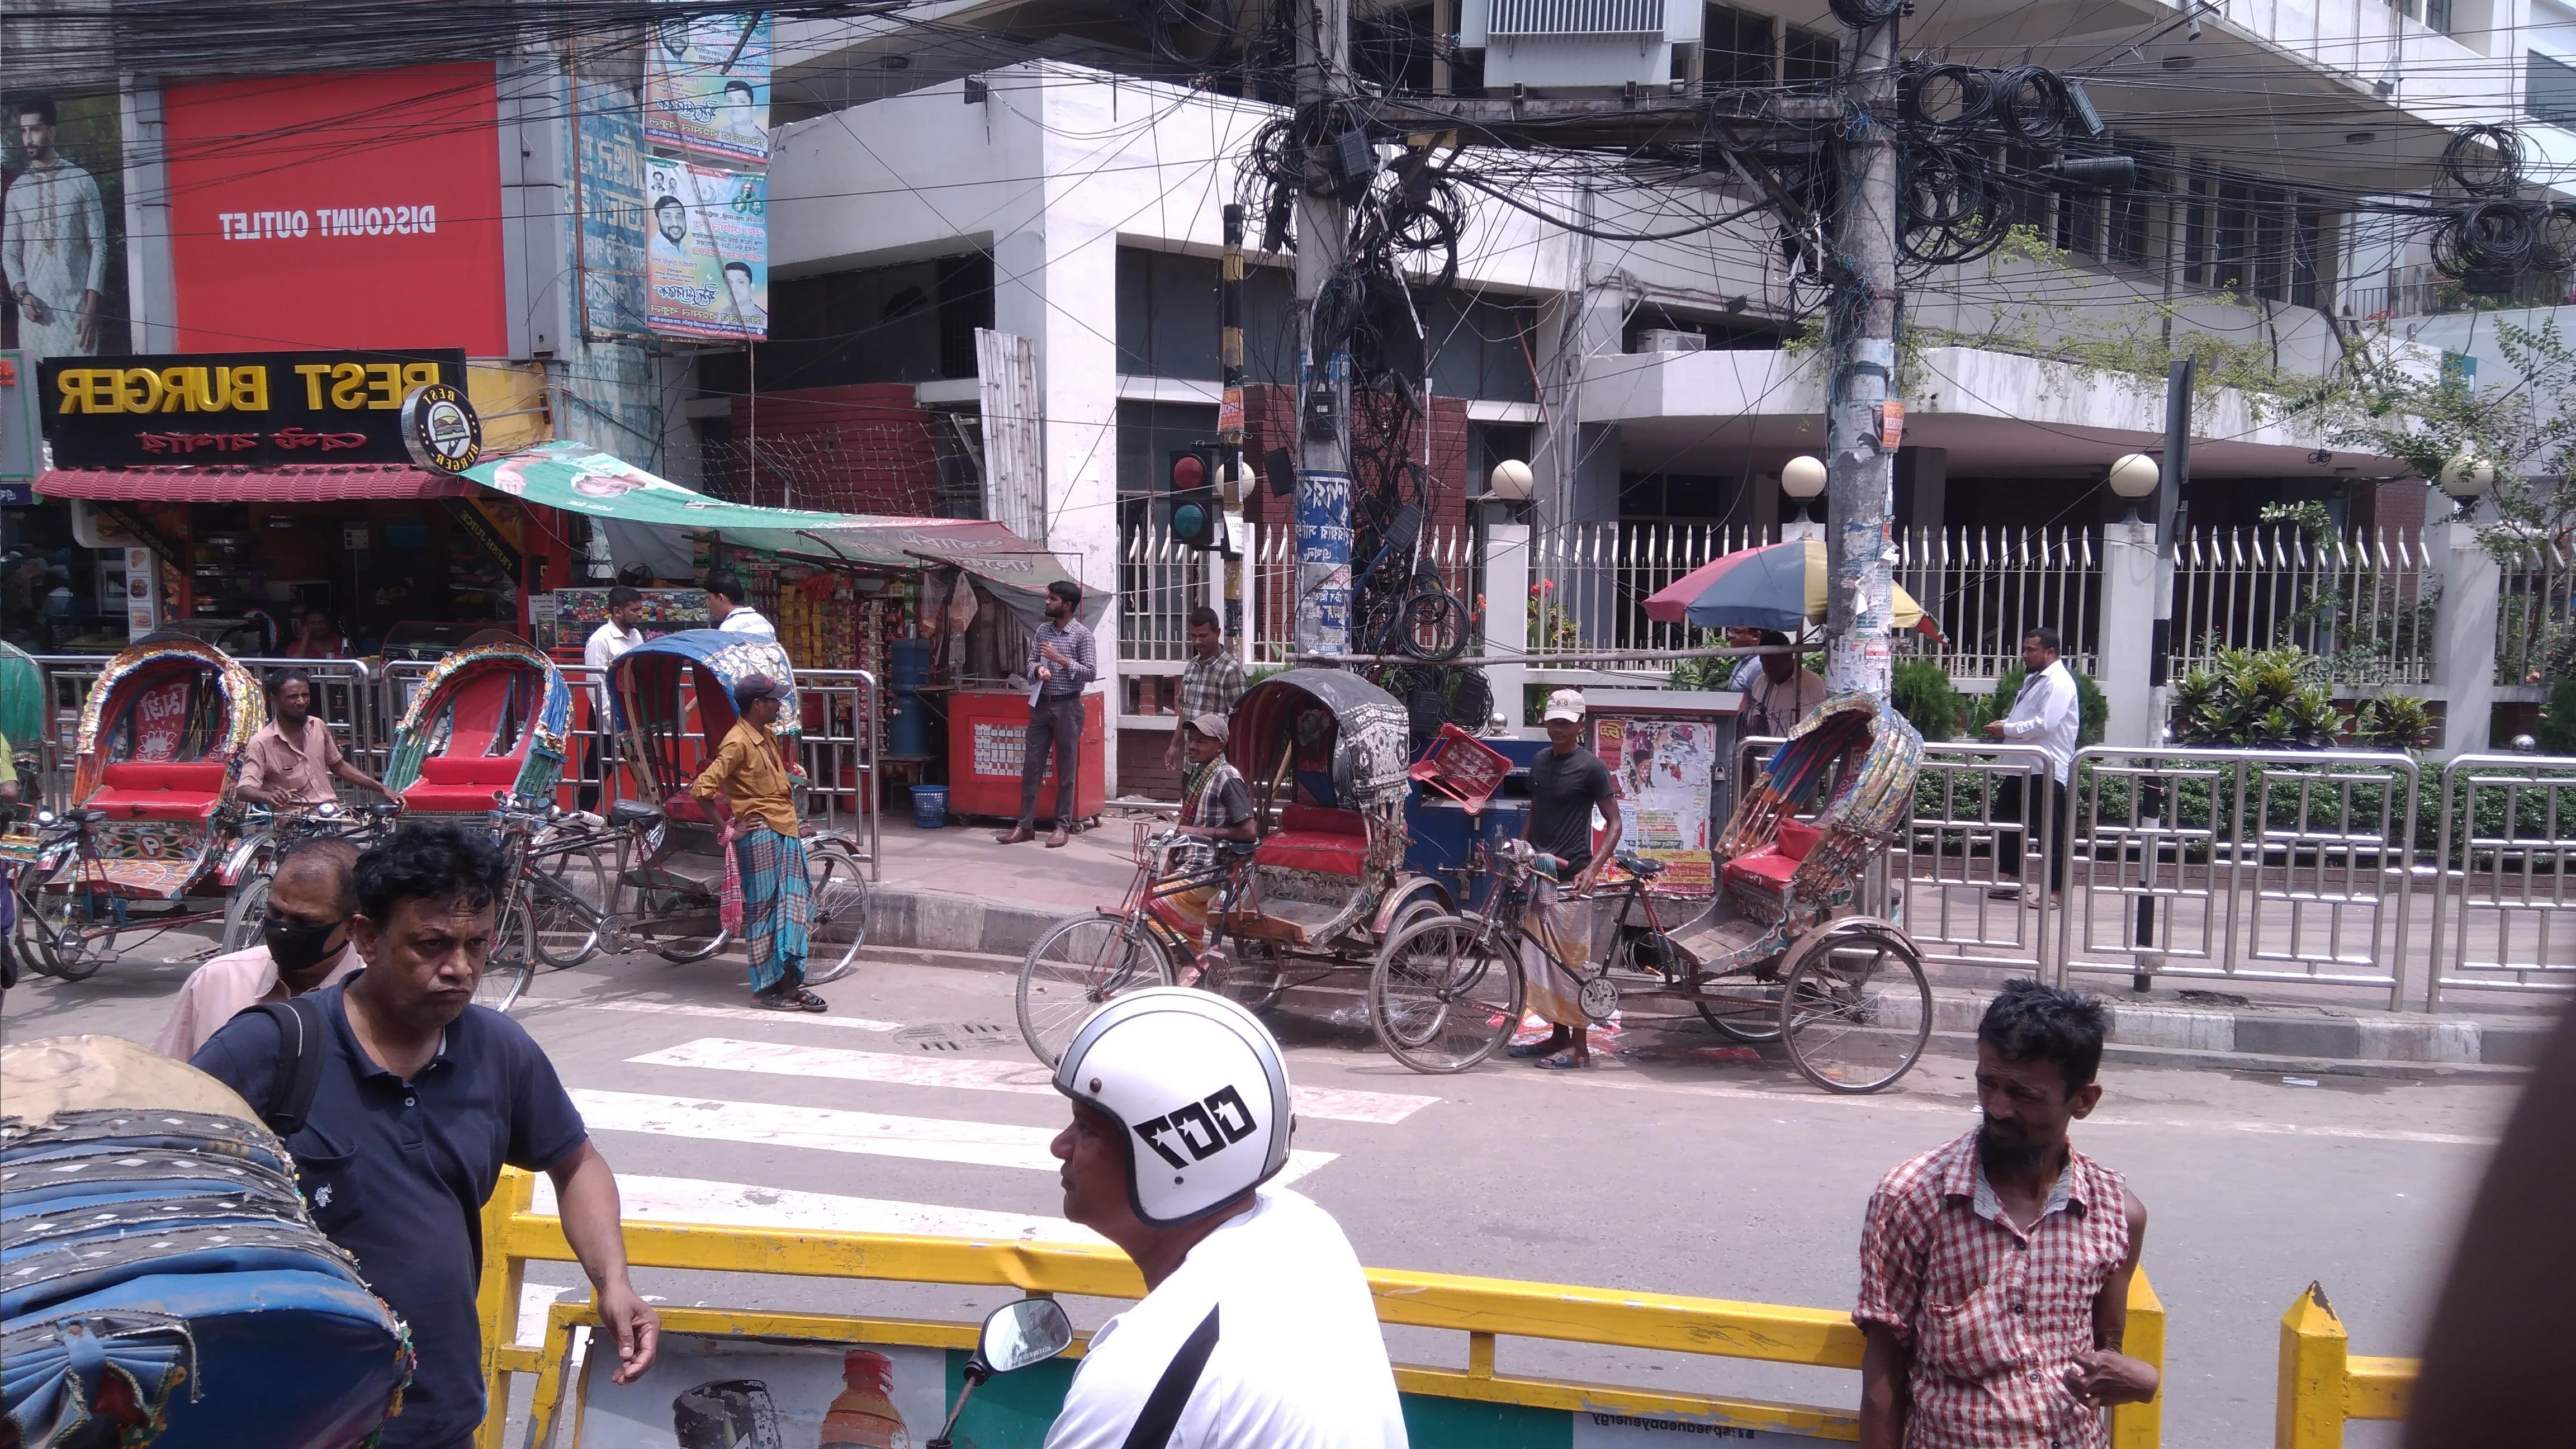Rickshaw: (1453, 663, 1946, 1113), (1044, 619, 1444, 1146), (304, 600, 563, 1051), (607, 596, 840, 985), (55, 640, 272, 975)
